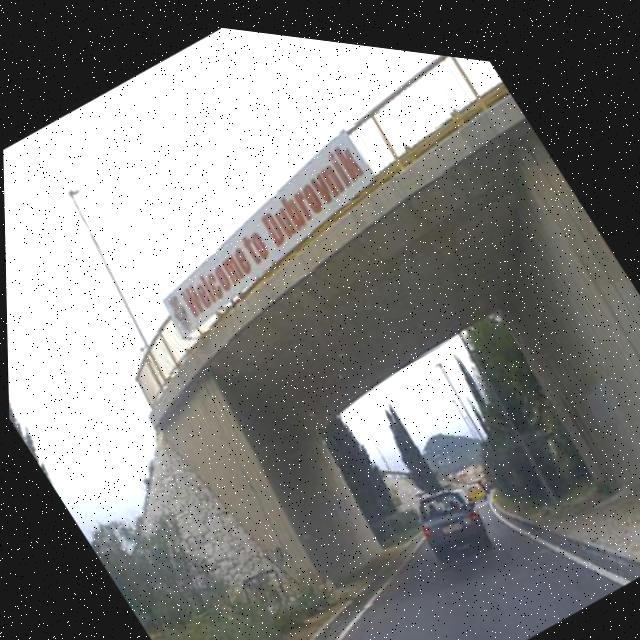license_plate: (441, 506, 462, 527)
